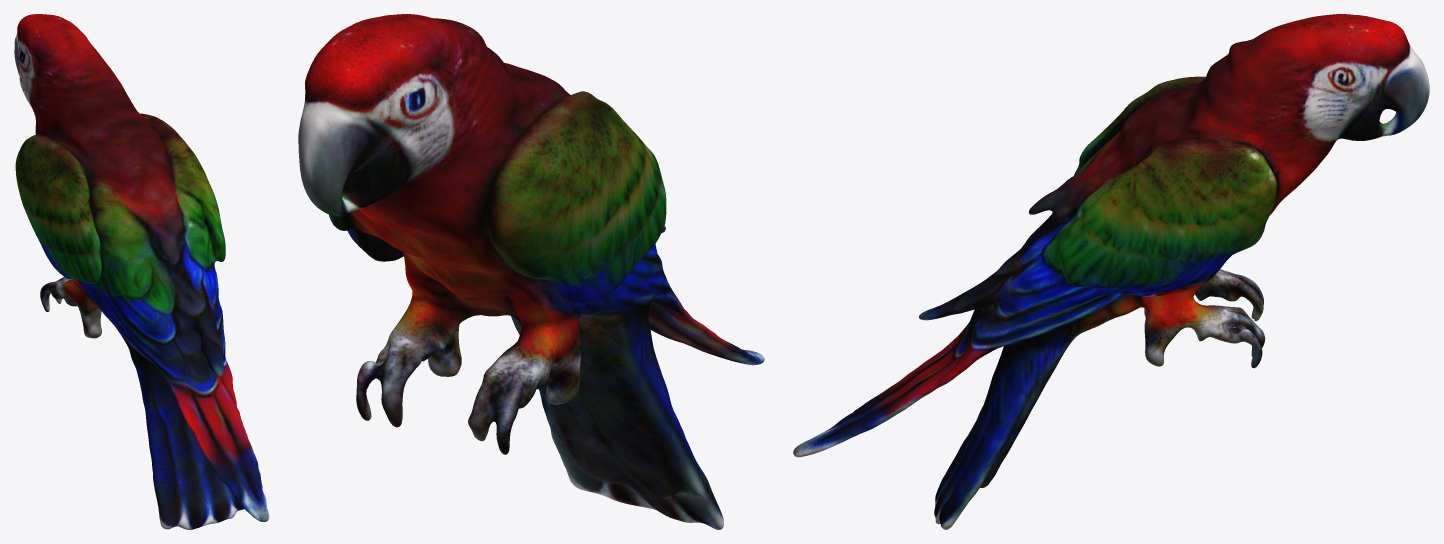
File: hyper realistic mexican macaw.glb
3 renders of one model, left to right at view 1: azimuth 30°, elevation 25°; view 2: azimuth 150°, elevation 25°; view 3: azimuth 270°, elevation 25°, orthographic. The views are drawn at different scales.
Parts seen in each view (by area): view 1: model; view 2: model; view 3: model.
Boxes of the visible parts, x1,y1,x2,y2 form: model: [14, 14, 269, 529]; model: [298, 14, 764, 529]; model: [793, 14, 1429, 529].
Size of the model in its own units: 0.5583 by 1.38 by 1.6.
Materials: 1 (1 with a texture image).
